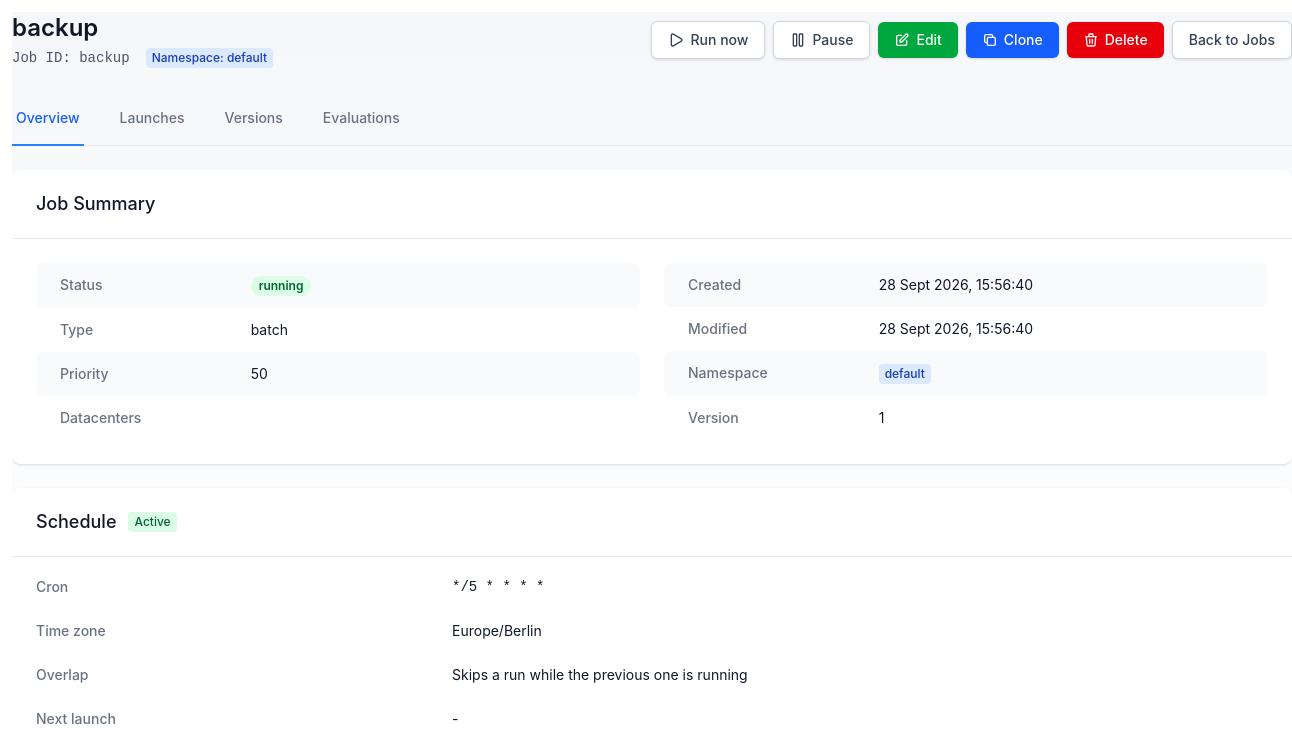
Test: JobDetailPage for a periodic job › pause refreshes the schedule in place
Step 1. Click the button "Pause" → (822, 40), box x1=773 y1=21 x2=870 y2=59
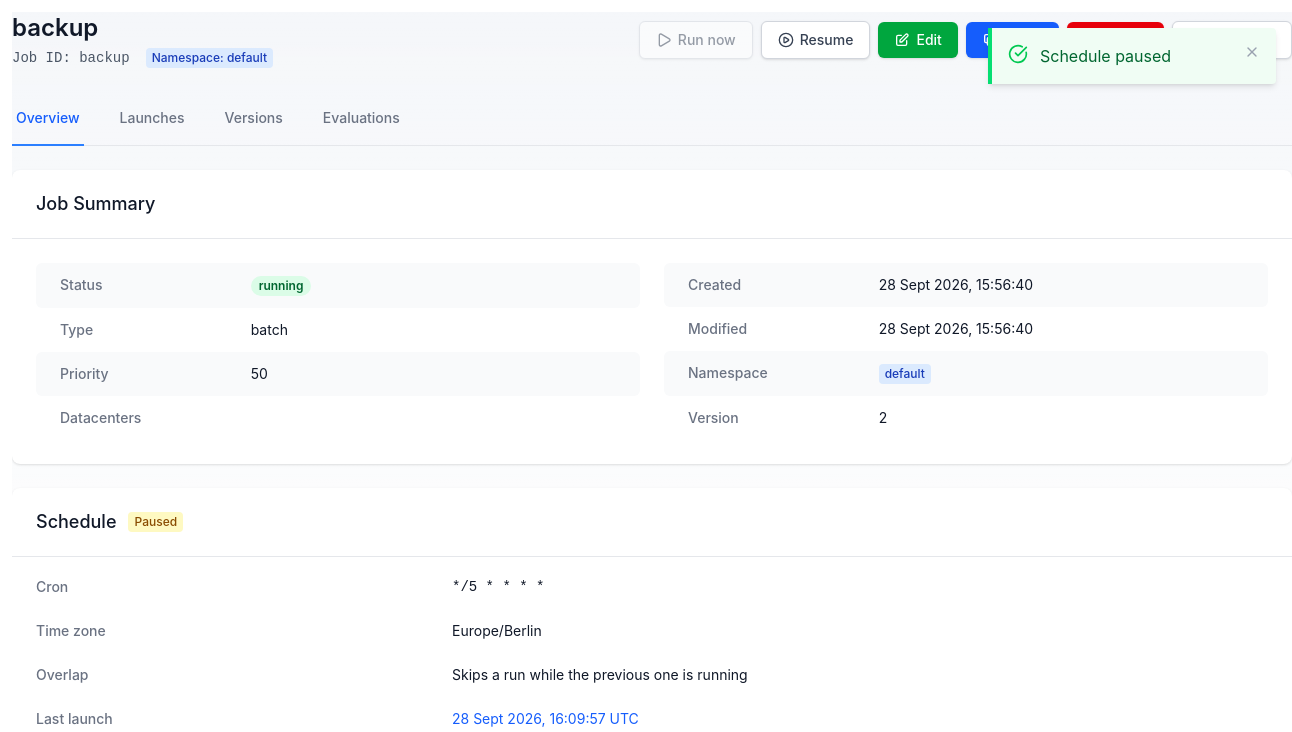
Now the text "Schedule paused" is shown, box x1=1040 y1=46 x2=1171 y2=66
Now the text "Paused" is shown, box x1=128 y1=512 x2=183 y2=532
